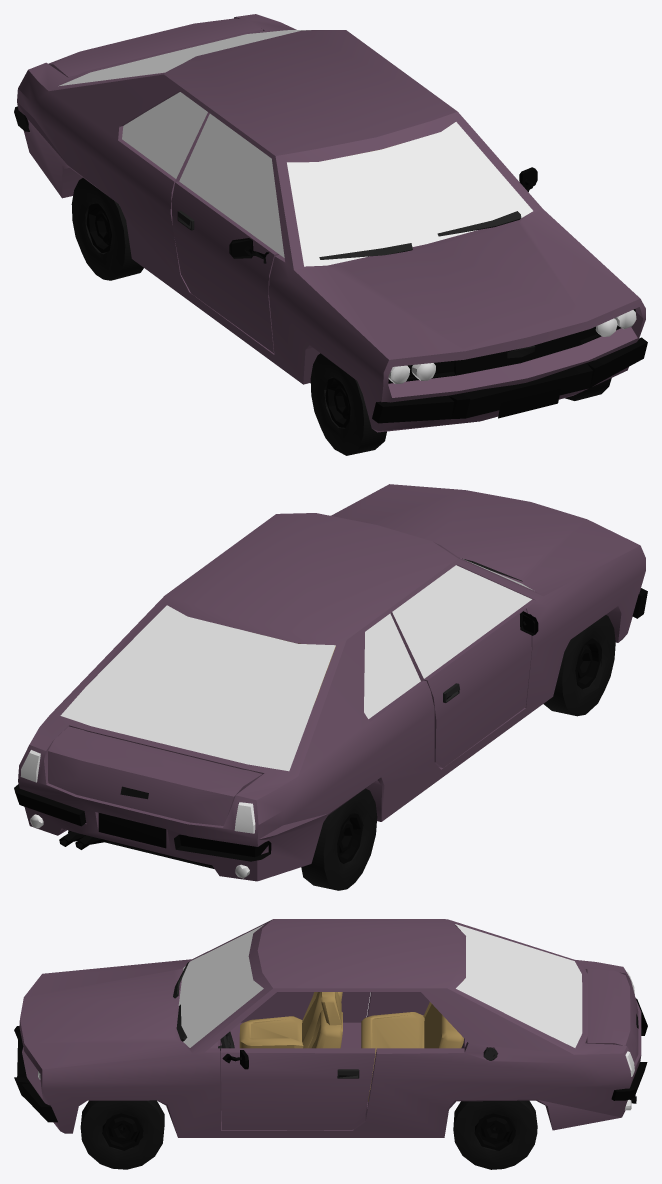
Rendered from PinkCar.fbx.
The picture shows the model from 3 angles, top to bottom: view 1: azimuth 30°, elevation 25°; view 2: azimuth 150°, elevation 25°; view 3: azimuth 270°, elevation 25°; orthographic projection. The views are drawn at different scales.
Visible parts, largest first — view 1: Cube.003; view 2: Cube.003; view 3: Cube.003.
Part boxes in pixels (bbox=[...]): Cube.003: bbox=[14, 14, 647, 455]; Cube.003: bbox=[14, 484, 647, 890]; Cube.003: bbox=[14, 919, 647, 1169].
Size of the model in its own units: 237 by 164 by 544.
